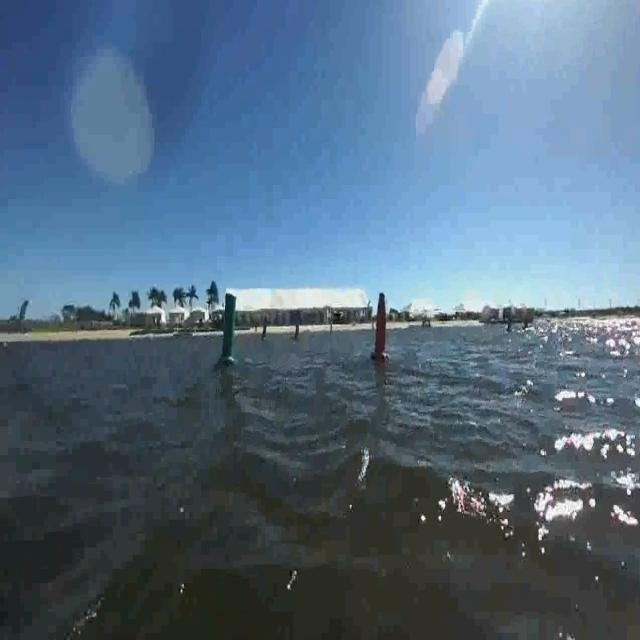green-column-buoy: (216, 293, 240, 370)
red-column-buoy: (372, 290, 391, 362), (293, 323, 300, 344)
